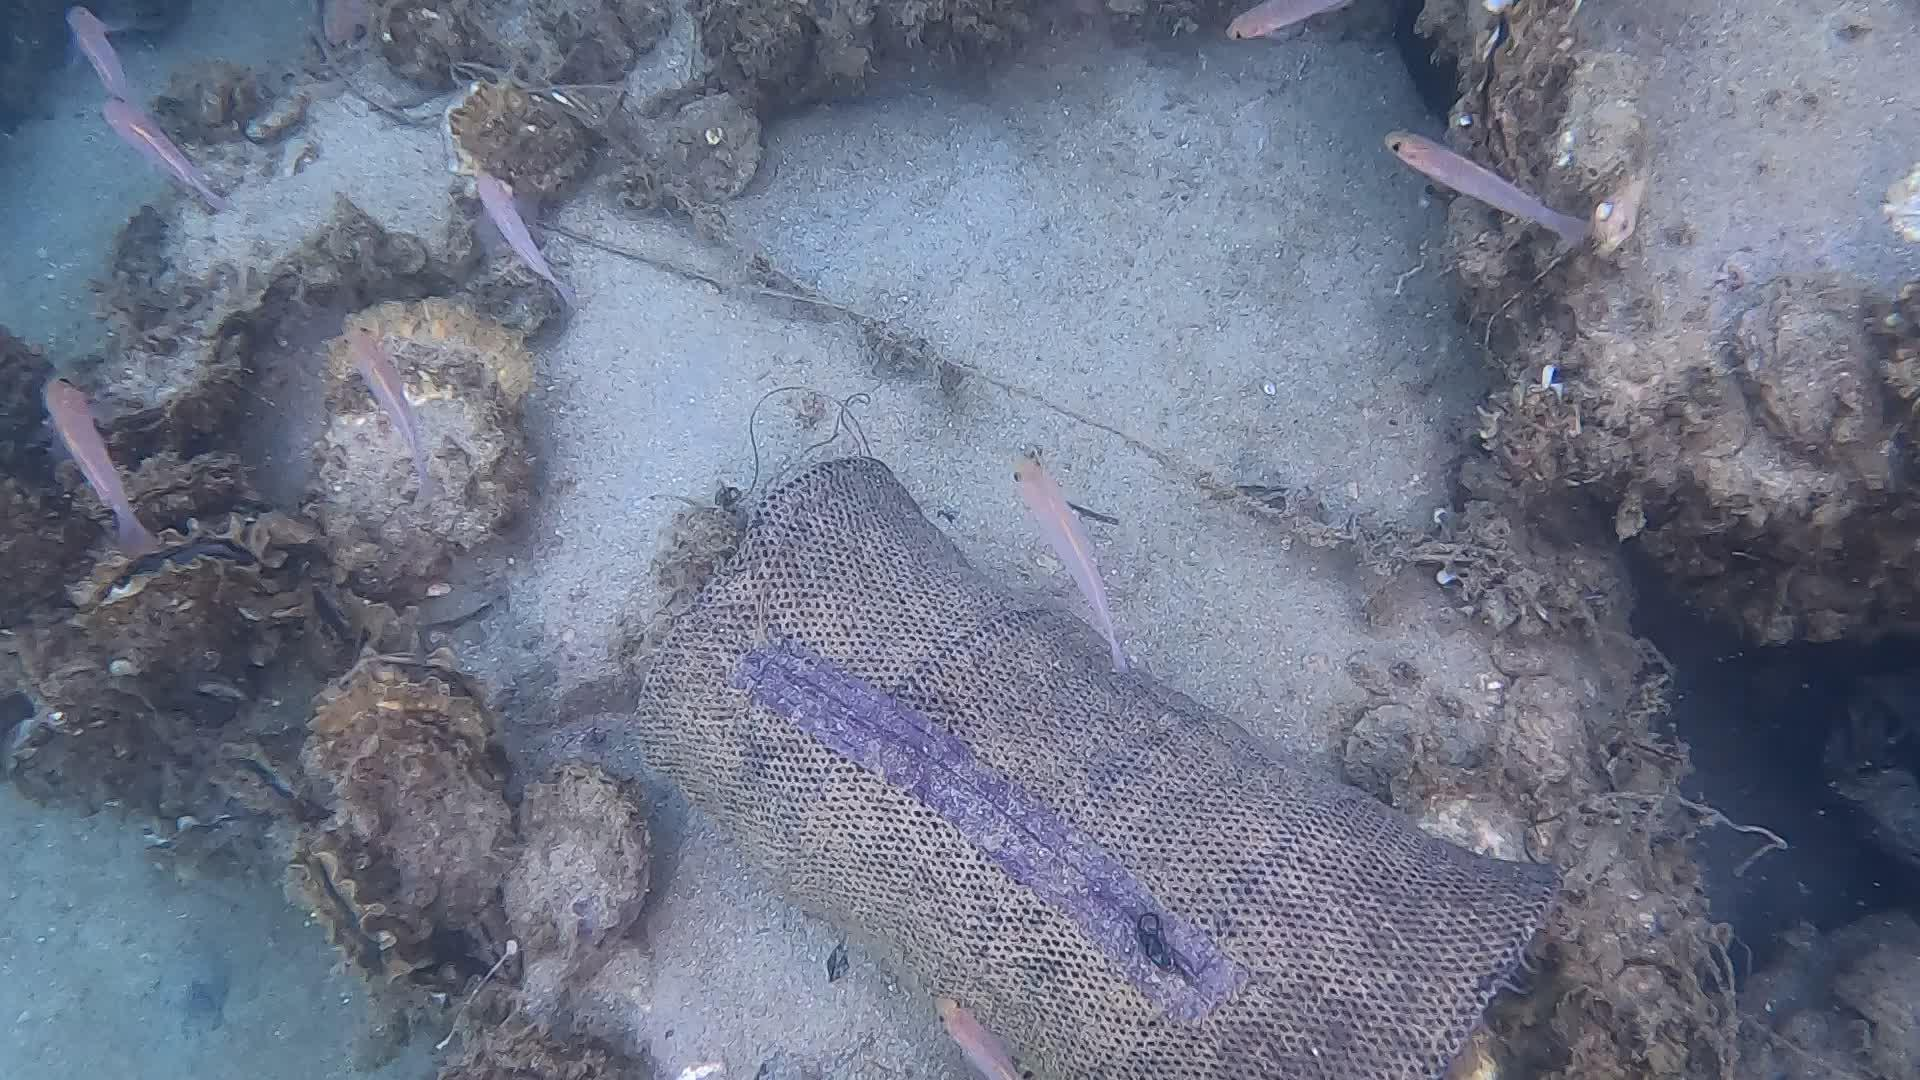spring fish trap: (636, 452, 1565, 1080)
